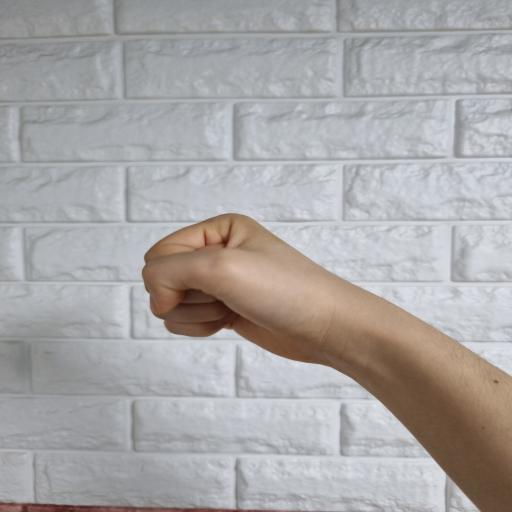Rock: (141, 214, 331, 363)
